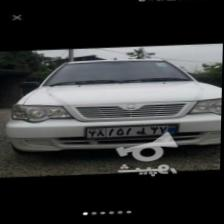plate: (86, 125, 182, 138)
